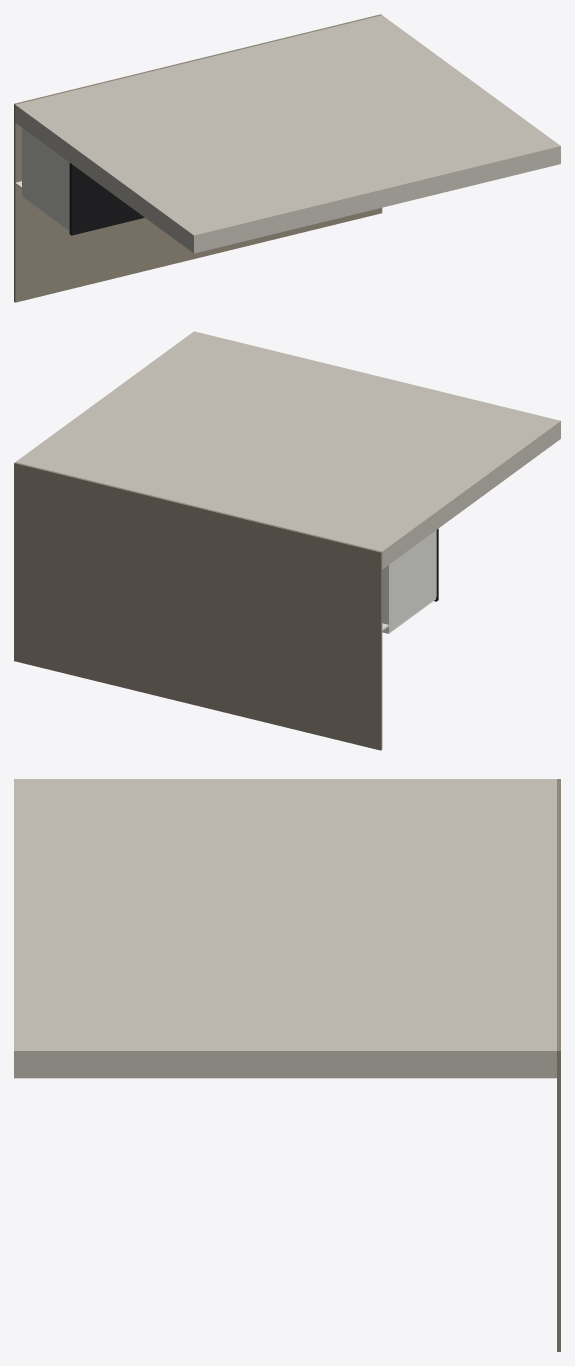
Rendered from POC_Cozinha_01.obj.
3 renders of one model, top to bottom at view 1: azimuth 30°, elevation 25°; view 2: azimuth 150°, elevation 25°; view 3: azimuth 270°, elevation 25°, orthographic. The views are drawn at different scales.
Parts seen in each view (by area): view 1: AMBIENTE, M01_base_cabinet; view 2: AMBIENTE, M01_base_cabinet; view 3: AMBIENTE.
Boxes of the visible parts, left/top/right/bottom form: AMBIENTE: left=14, top=14, right=560, bottom=302; M01_base_cabinet: left=15, top=128, right=144, bottom=235; AMBIENTE: left=14, top=331, right=560, bottom=750; M01_base_cabinet: left=382, top=528, right=438, bottom=633; AMBIENTE: left=14, top=779, right=560, bottom=1351.
Bounding box in the file's own units: 3200 × 1650 × 2720.
